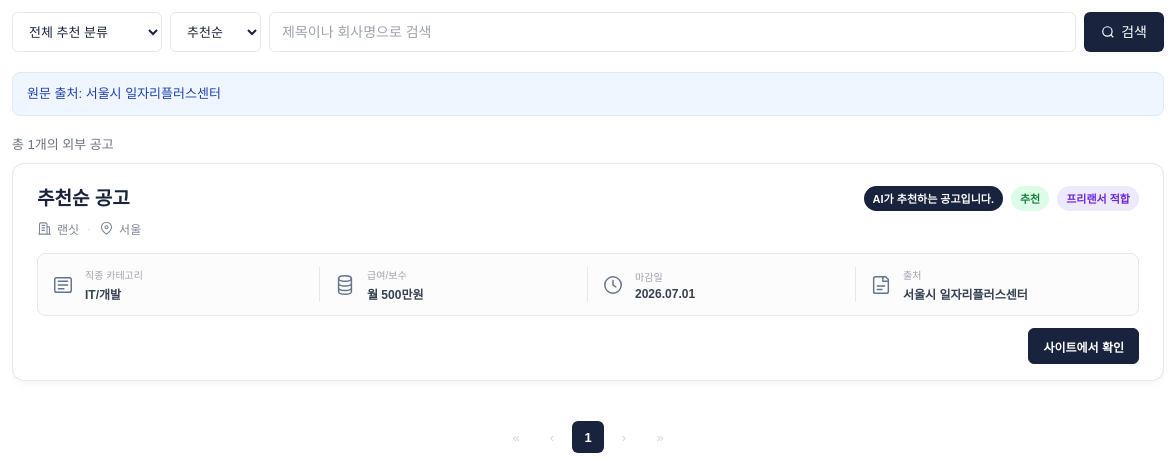
ExternalJobListPanel › requests latest jobs and hides the AI recommendation copy when latest sort is selected
Select "최신순" in the dropdown named "정렬 방식" at [216, 32], box x1=170 y1=12 x2=261 y2=52
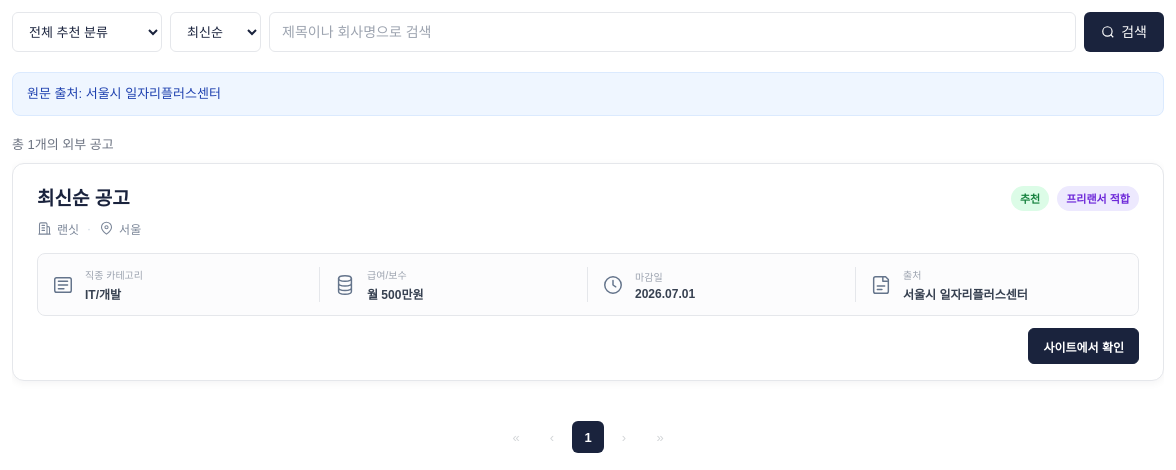
Expected: the text "최신순 공고" is shown, x1=37 y1=186 x2=141 y2=212
Expected: the text "AI가 추천하는 공고입니다." is gone
